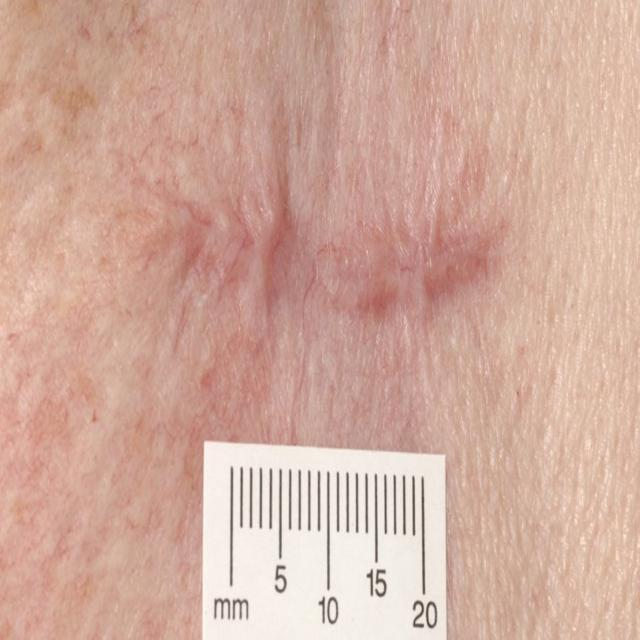wound: (140, 134, 566, 425)
